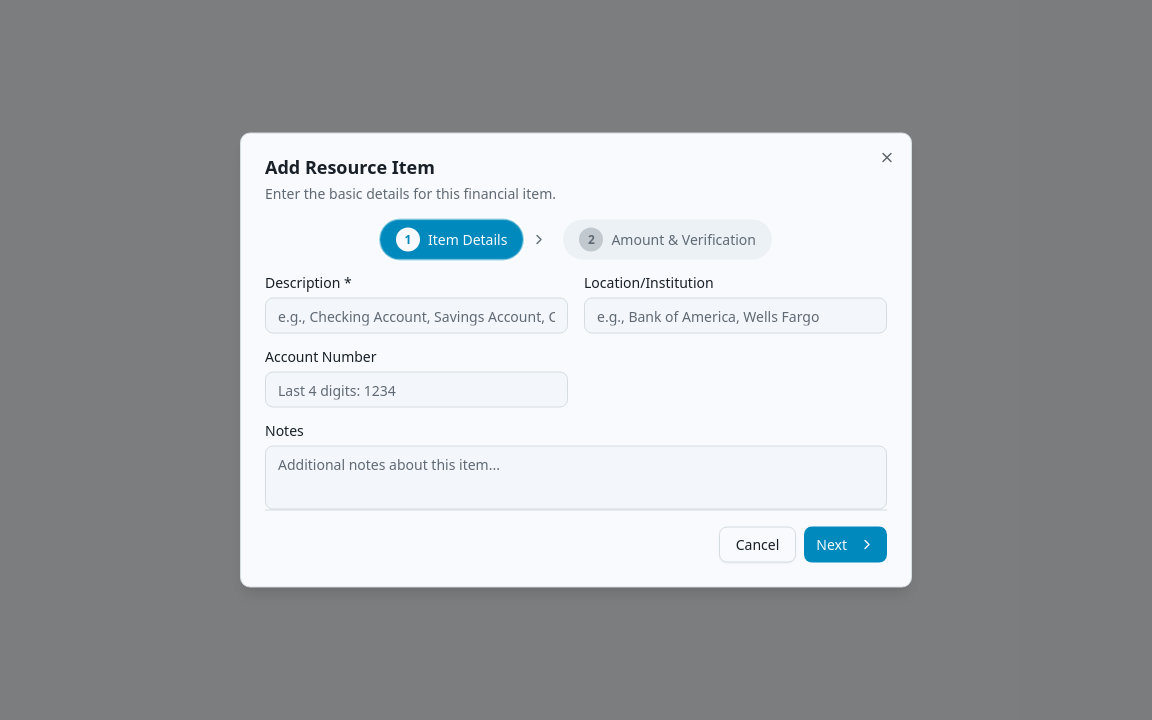
Test case: FinancialItemStepperModal › uses Ctrl+Enter in amount history setup to add an entry
Type "Savings" into the field labelled "Description *".
click(416, 316); type("Savings")  # box [265,298,568,334]
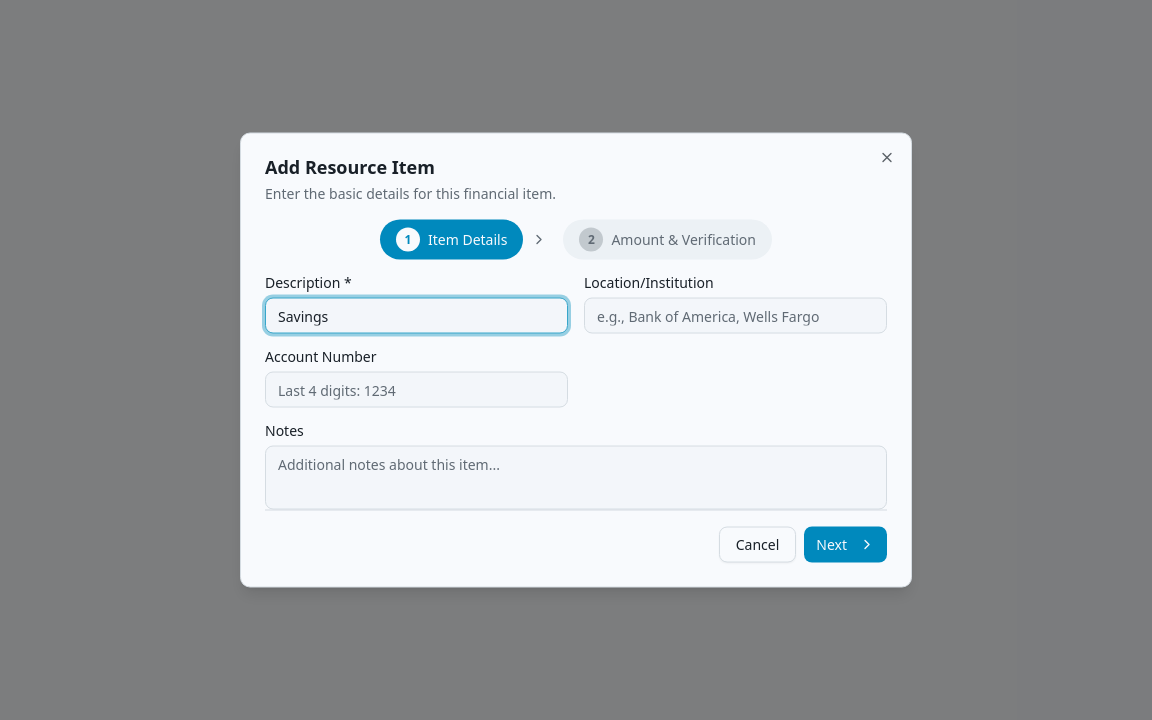
Click the button "Next".
click(846, 544)  # box [804,526,887,562]
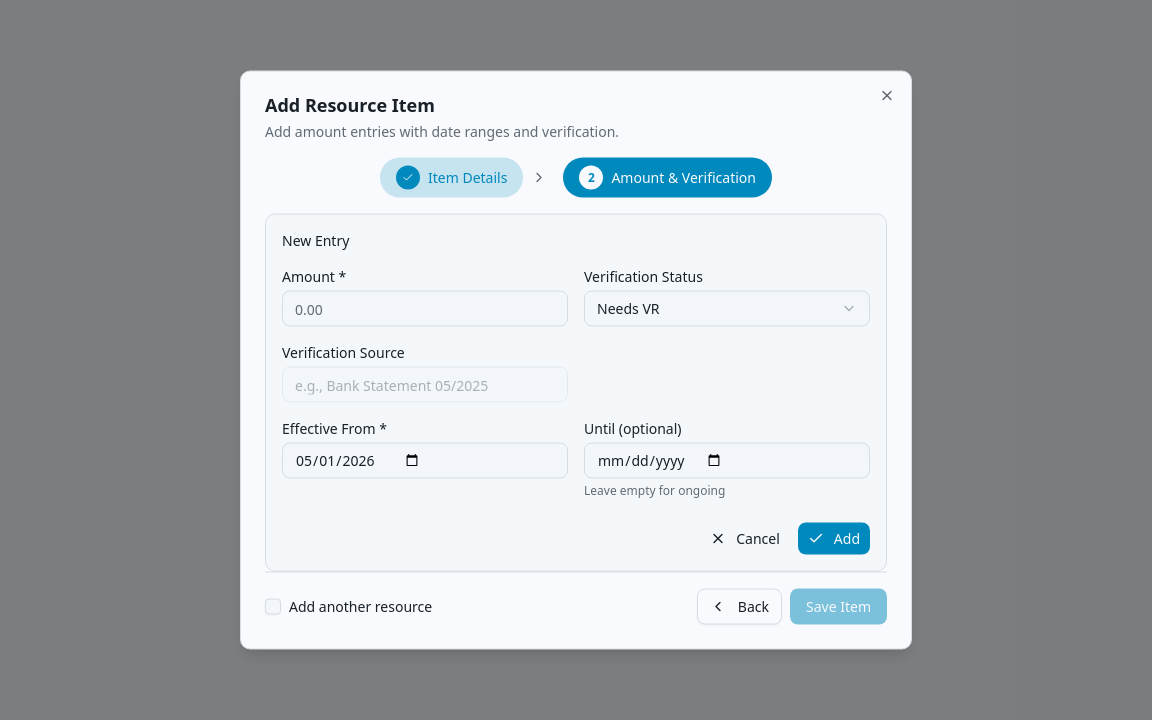
Result: the number field labelled "Amount *" is shown
Type "123.45" into the number field labelled "Amount *".
click(425, 308); type("123.45")  # box [282,290,568,326]
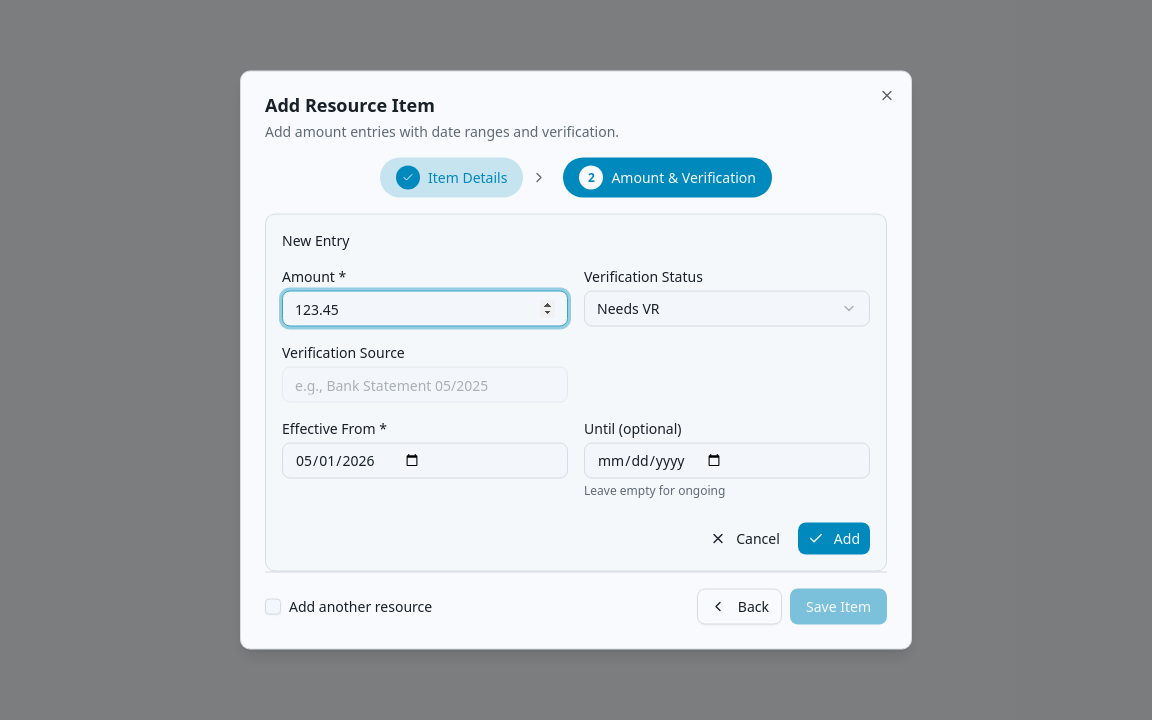
Type keys "{Control>}{Enter}{/Control}"
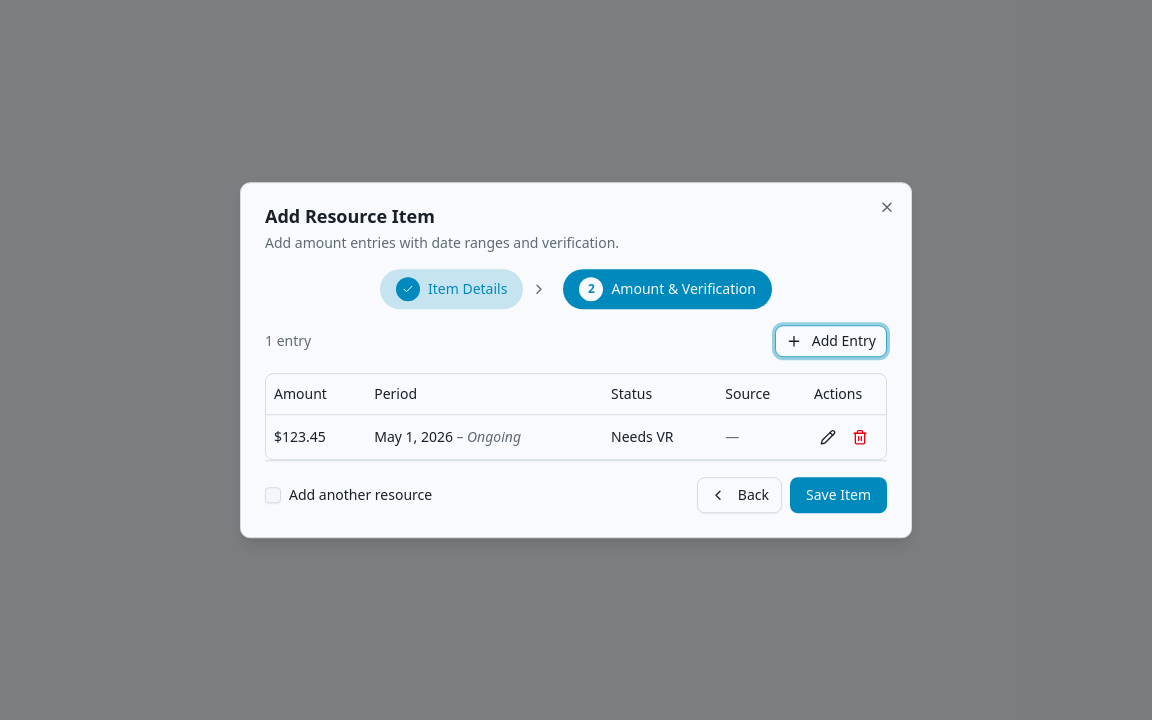
Result: the text "$123.45" is shown at [266,414,366,459]
